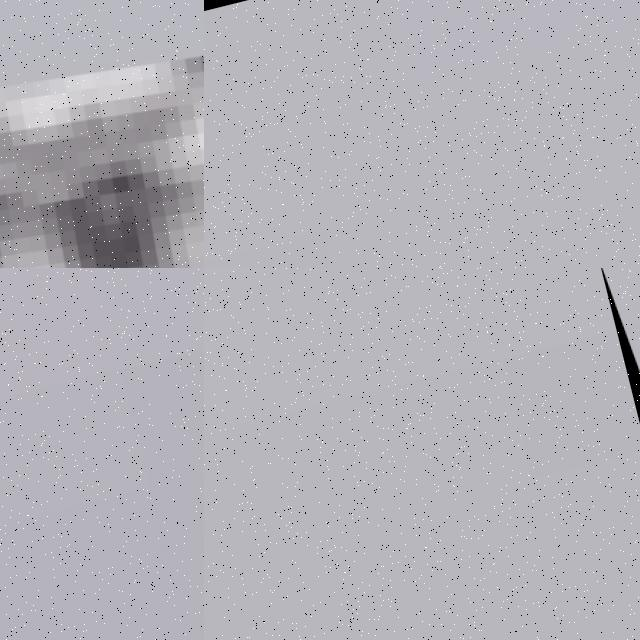drone: (0, 0, 204, 268), (597, 268, 640, 640)
